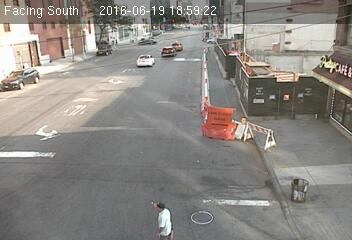neg: (287, 20, 314, 56), (248, 122, 275, 158), (108, 55, 135, 90), (160, 120, 186, 155), (28, 110, 54, 145), (294, 173, 320, 208), (151, 58, 176, 92), (133, 127, 158, 161), (274, 80, 299, 114), (197, 38, 222, 71), (36, 51, 60, 83), (319, 68, 342, 100), (224, 169, 246, 198), (62, 156, 83, 184), (99, 193, 120, 220), (74, 117, 94, 142), (196, 205, 214, 230), (202, 114, 217, 133), (235, 92, 248, 109)
pos: (150, 195, 179, 234)
